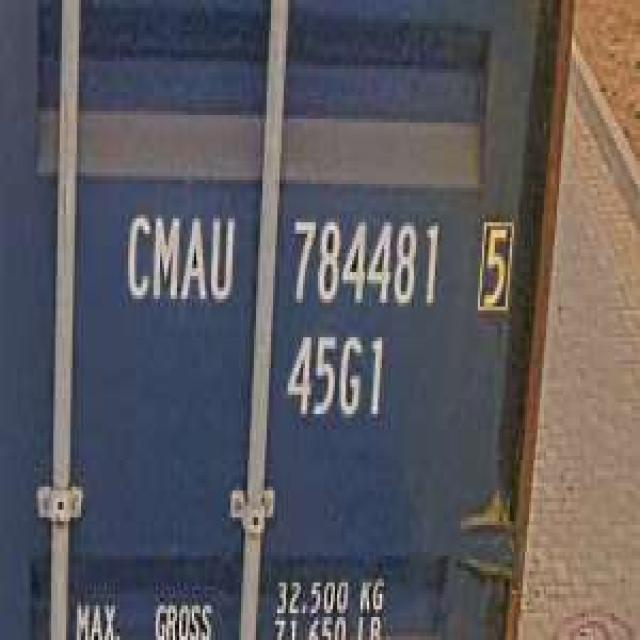dv: (472, 207, 516, 322)
owner: (119, 200, 237, 314)
serial: (284, 207, 444, 318)
size: (280, 326, 386, 429)
